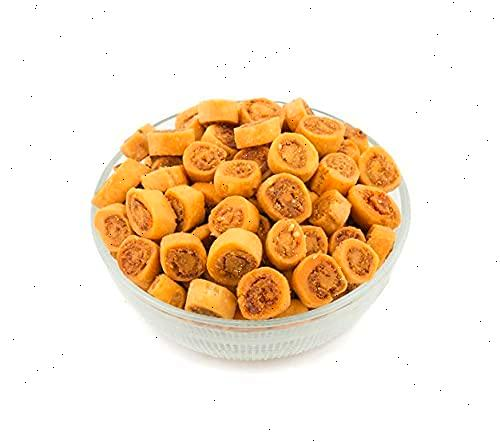bhakarwadi: (97, 96, 403, 320)
